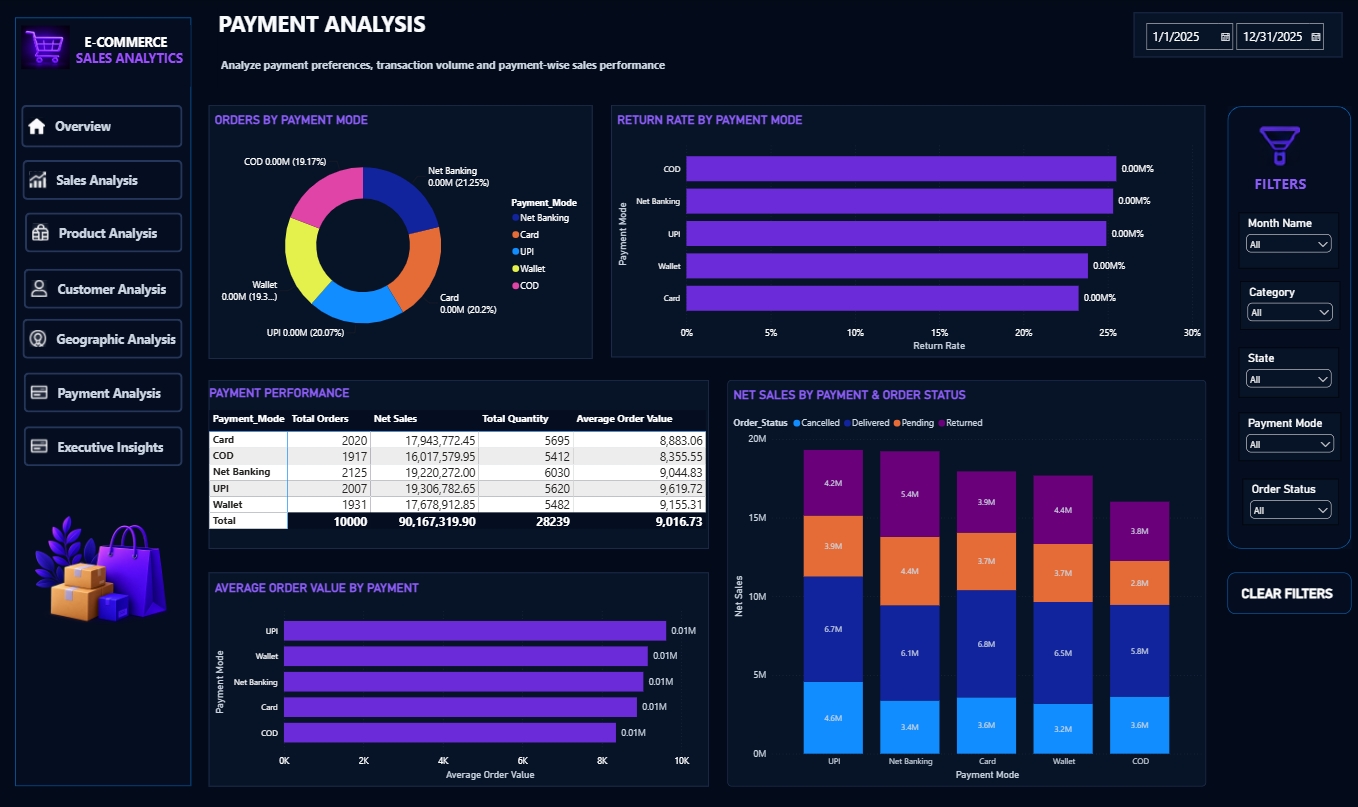

This screenshot's page, from the dashboard's own definition file:
{"tool":"powerbi","page":{"name":"Payment Analysis","canvas":[2020,1200],"ordinal":5},"visuals":[{"type":"textbox","box":[322.8,66.8,755.1,61.2],"z":0},{"type":"shape","box":[22.3,26,261.6,1141],"z":1000},{"type":"actionButton","box":[31.5,155.8,239.3,63.1],"z":2000},{"type":"actionButton","box":[33.4,237.5,237.5,59.4],"z":3000},{"type":"actionButton","box":[35.3,398.9,235.6,59.4],"z":4000},{"type":"actionButton","box":[33.4,473.1,237.5,59.4],"z":5000},{"type":"actionButton","box":[35.3,552.9,235.6,59.4],"z":6000},{"type":"textbox","box":[322.8,13,736.6,53.8],"z":7000},{"type":"textbox","box":[79,36.5,203.6,91.2],"z":8000},{"type":"shape","box":[1821.9,157.7,183.7,656.8],"z":9000},{"type":"slicer","fields":{"Values":["orders.State"]},"box":[1838.6,515.8,148.4,74.2],"z":10000},{"type":"slicer","fields":{"Values":["orders.Category"]},"box":[1840.5,417.4,148.4,72.4],"z":11000},{"type":"slicer","fields":{"Values":["orders.Payment_Mode"]},"box":[1838.6,612.2,152.1,72.4],"z":12000},{"type":"slicer","fields":{"Values":["orders.Order_Status"]},"box":[1844.2,710.6,142.9,68.6],"z":13000},{"type":"slicer","fields":{"Values":["orders.Month_Name"]},"box":[1838.8,315.9,148.4,83.5],"z":14000},{"type":"textbox","box":[1857.2,252.3,120.3,45.3],"z":15000},{"type":"slicer","fields":{"Values":["orders.Order_Date"]},"box":[1683,18.1,309.7,66.4],"z":16000},{"type":"clusteredBarChart","title":"RETURN RATE  BY PAYMENT MODE","fields":{"Category":["orders.Payment_Mode"],"Y":["orders.Return Rate"]},"box":[907.2,155.8,881.3,374.8],"z":17000},{"type":"actionButton","box":[37.1,315.4,233.8,59.4],"z":18000},{"type":"image","box":[22.3,725.4,261.4,249.3],"z":19000},{"type":"image","box":[1841.8,187,114.6,58.3],"z":20000},{"type":"image","box":[31.5,37.1,72.4,66.8],"z":21000},{"type":"columnChart","title":"NET SALES BY PAYMENT & ORDER STATUS","fields":{"Category":["orders.Payment_Mode"],"Series":["orders.Order_Status"],"Y":["orders.Net Sales"]},"box":[1079.8,564,710.6,603],"z":22000},{"type":"clusteredBarChart","title":"AVERAGE ORDER VALUE BY PAYMENT","fields":{"Y":["orders.Average Order Value"],"Category":["orders.Payment_Mode"]},"box":[309.8,849.7,742.1,317.3],"z":23000},{"type":"donutChart","title":"ORDERS BY PAYMENT MODE","fields":{"Y":["orders.Total Orders"],"Category":["orders.Payment_Mode"]},"box":[309.8,155.8,569.6,376.6],"z":24000},{"type":"pivotTable","title":"PAYMENT PERFORMANCE","fields":{"Rows":["orders.Payment_Mode"],"Values":["orders.Total Orders","orders.Net Sales","orders.Total Quantity","orders.Average Order Value"]},"box":[309.8,564,742.1,250.5],"z":25000},{"type":"shape","title":"CLEAR FILTERS","box":[1821.9,849.7,183.7,61.2],"z":26000},{"type":"actionButton","box":[35.3,632.7,235.6,59.4],"z":27000}]}

Visuals, with their boxes in screenshot pixels (x1, y1, x2, y2), scaled from the page's 2020x1200 canvas onto the 1358x807 screenshot:
textbox: rect(217, 45, 725, 86)
shape: rect(15, 17, 191, 785)
actionButton: rect(21, 105, 182, 147)
actionButton: rect(22, 160, 182, 200)
actionButton: rect(24, 268, 182, 308)
actionButton: rect(22, 318, 182, 358)
actionButton: rect(24, 372, 182, 412)
textbox: rect(217, 9, 712, 45)
textbox: rect(53, 25, 190, 86)
shape: rect(1225, 106, 1348, 548)
slicer - orders.State: rect(1236, 347, 1336, 397)
slicer - orders.Category: rect(1237, 281, 1337, 329)
slicer - orders.Payment_Mode: rect(1236, 412, 1338, 460)
slicer - orders.Order_Status: rect(1240, 478, 1336, 524)
slicer - orders.Month_Name: rect(1236, 212, 1336, 269)
textbox: rect(1249, 170, 1329, 200)
slicer - orders.Order_Date: rect(1131, 12, 1340, 57)
"RETURN RATE  BY PAYMENT MODE" clusteredBarChart: rect(610, 105, 1202, 357)
actionButton: rect(25, 212, 182, 252)
image: rect(15, 488, 191, 655)
image: rect(1238, 126, 1315, 165)
image: rect(21, 25, 70, 70)
"NET SALES BY PAYMENT & ORDER STATUS" columnChart: rect(726, 379, 1204, 785)
"AVERAGE ORDER VALUE BY PAYMENT" clusteredBarChart: rect(208, 571, 707, 785)
"ORDERS BY PAYMENT MODE" donutChart: rect(208, 105, 591, 358)
"PAYMENT PERFORMANCE" pivotTable: rect(208, 379, 707, 548)
"CLEAR FILTERS" shape: rect(1225, 571, 1348, 613)
actionButton: rect(24, 425, 182, 465)
